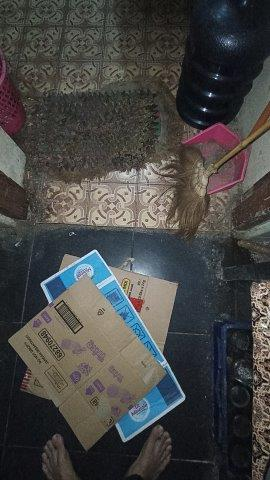kardus: (9, 251, 184, 446)
